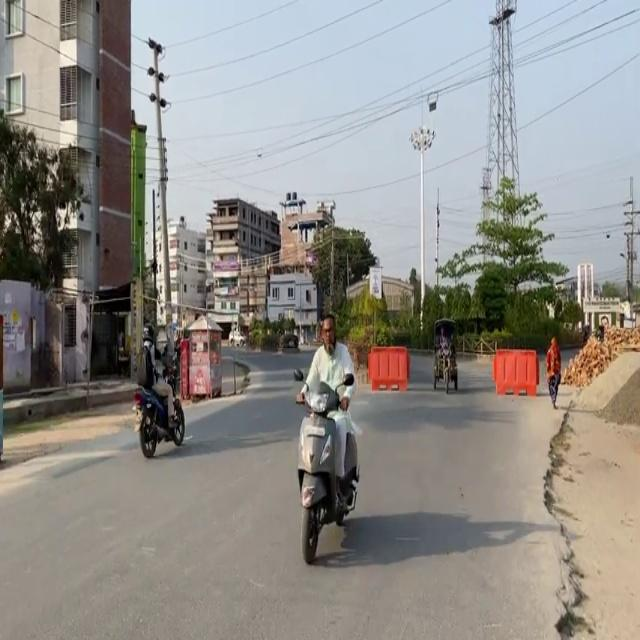Car: (491, 347, 539, 396)
Construction-barrier: (541, 345, 639, 639), (1, 391, 85, 424)
Downstairs: (189, 309, 231, 396)
Fallen-tree: (292, 367, 360, 563), (131, 364, 185, 458), (432, 317, 459, 393)
Garbage: (366, 345, 408, 390)
Garbage-bin: (545, 336, 561, 408)
